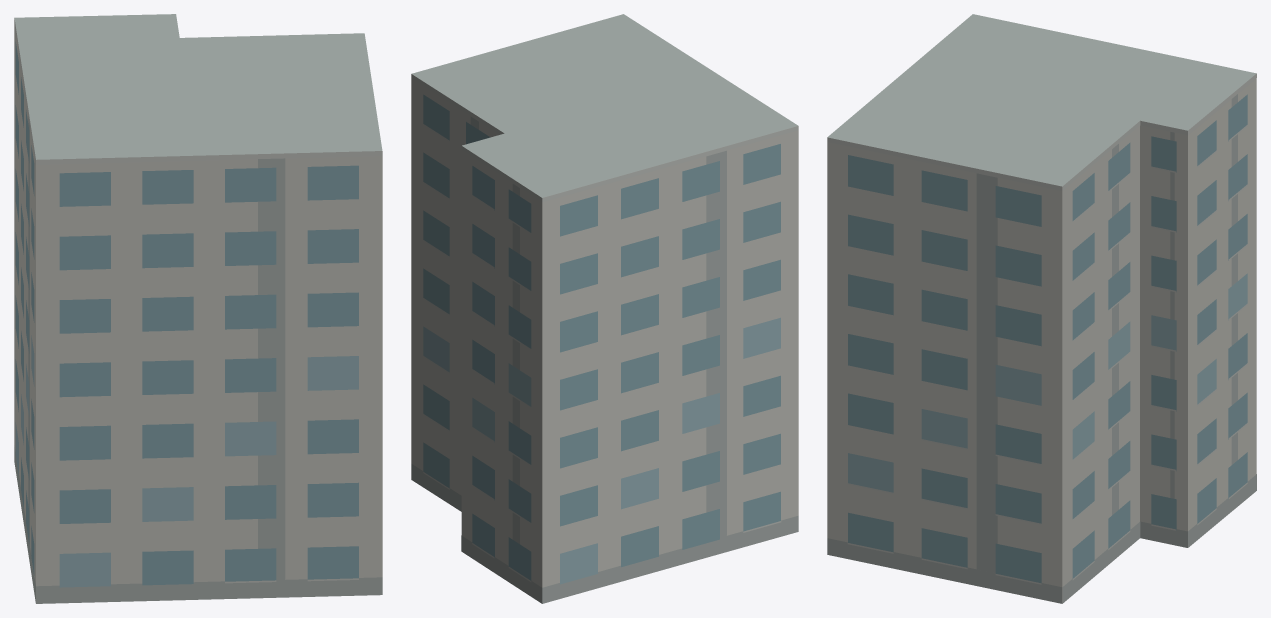
The model's file is survey-upis-32800863.glb.
3 views of the same model, side by side, from view 1: azimuth 30°, elevation 25°; view 2: azimuth 150°, elevation 25°; view 3: azimuth 270°, elevation 25° (orthographic). The views are drawn at different scales.
Visible parts, largest first — view 1: survey-upis-32800863.tmp; view 2: survey-upis-32800863.tmp; view 3: survey-upis-32800863.tmp.
Boxes of the visible parts, <box> form: survey-upis-32800863.tmp: <box>14,14,382,603</box>; survey-upis-32800863.tmp: <box>411,14,798,603</box>; survey-upis-32800863.tmp: <box>827,14,1256,603</box>.
Size of the model in its own units: 19.16 by 21.6 by 20.16.
